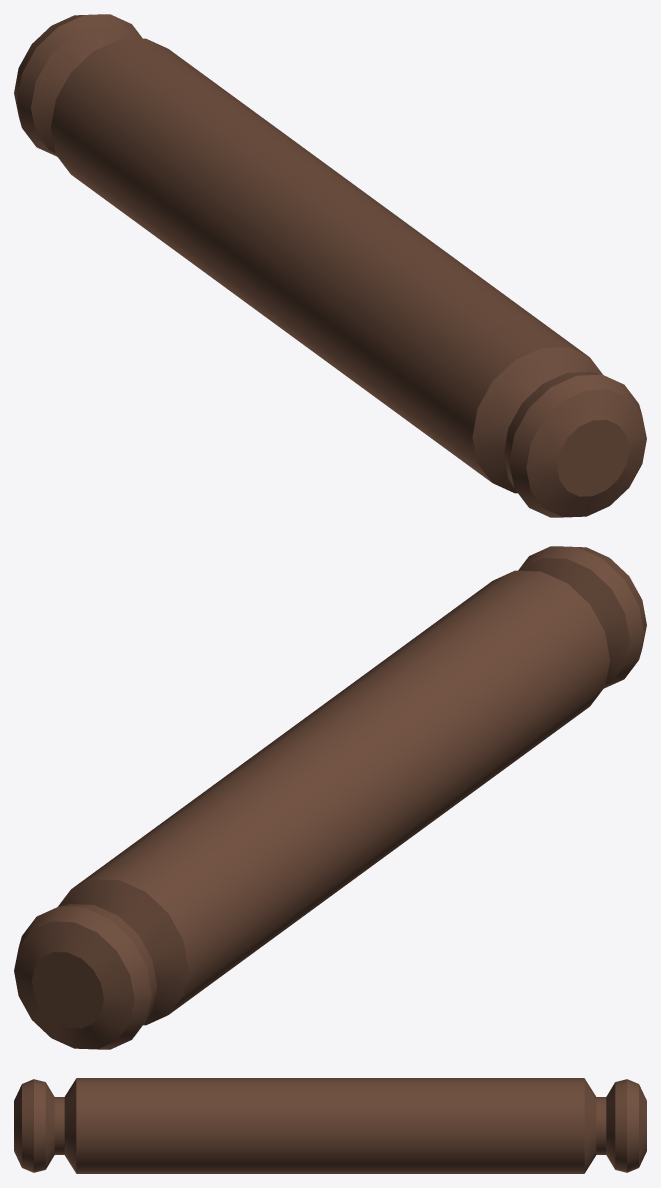
The model's file is RollingPin.fbx.
The picture shows the model from 3 angles, top to bottom: view 1: azimuth 30°, elevation 25°; view 2: azimuth 150°, elevation 25°; view 3: azimuth 270°, elevation 25°; orthographic projection. The views are drawn at different scales.
Parts seen in each view (by area): view 1: RollingPin; view 2: RollingPin; view 3: RollingPin.
Boxes of the visible parts, left/top/right/bottom form: RollingPin: left=14, top=14, right=646, bottom=517; RollingPin: left=14, top=546, right=646, bottom=1049; RollingPin: left=14, top=1078, right=646, bottom=1173.
Size of the model in its own units: 8.41 by 8.41 by 55.5.
